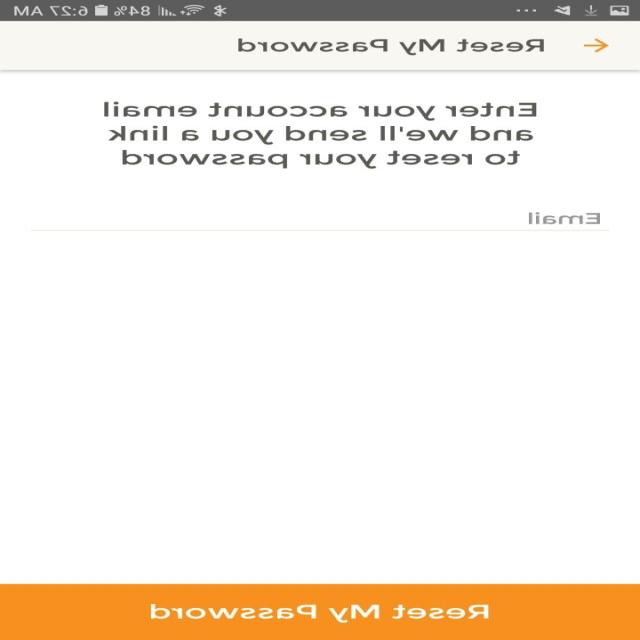EditText: (31, 212, 610, 231)
Icon: (583, 38, 609, 53)
Text: (104, 101, 538, 169), (238, 38, 545, 55), (528, 212, 601, 224)
TextButton: (1, 584, 640, 640)
